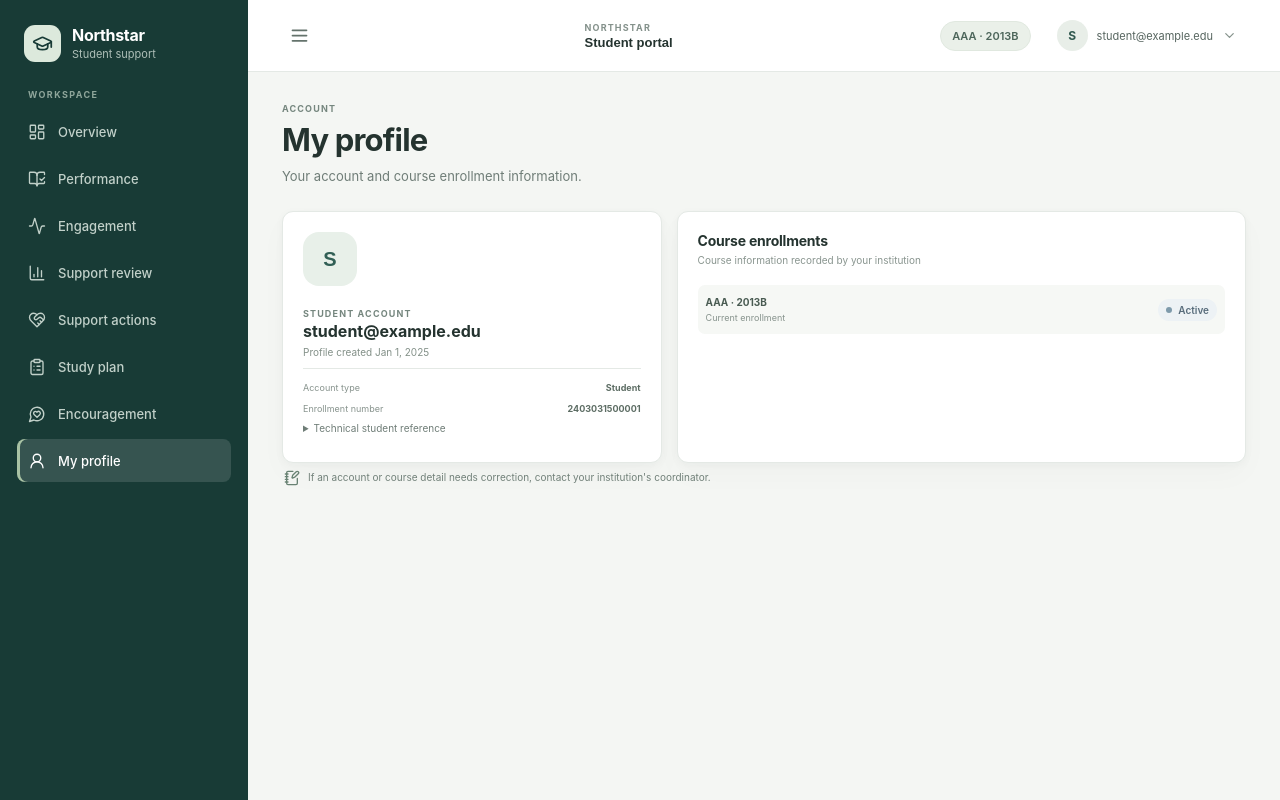
Test: student and coordinator frontend flows › shows the assigned enrollment number and keeps the student UUID in diagnostic details
Check: the text "2403031500001" is shown, box top-left (568, 403), bottom-right (641, 414)
Check: the text "student-1" is not shown
What coordinates should you click on to do the following:
click the heading "Technical student reference"
I would click on:
 (374, 428)
Its box is top-left (303, 422), bottom-right (446, 434).
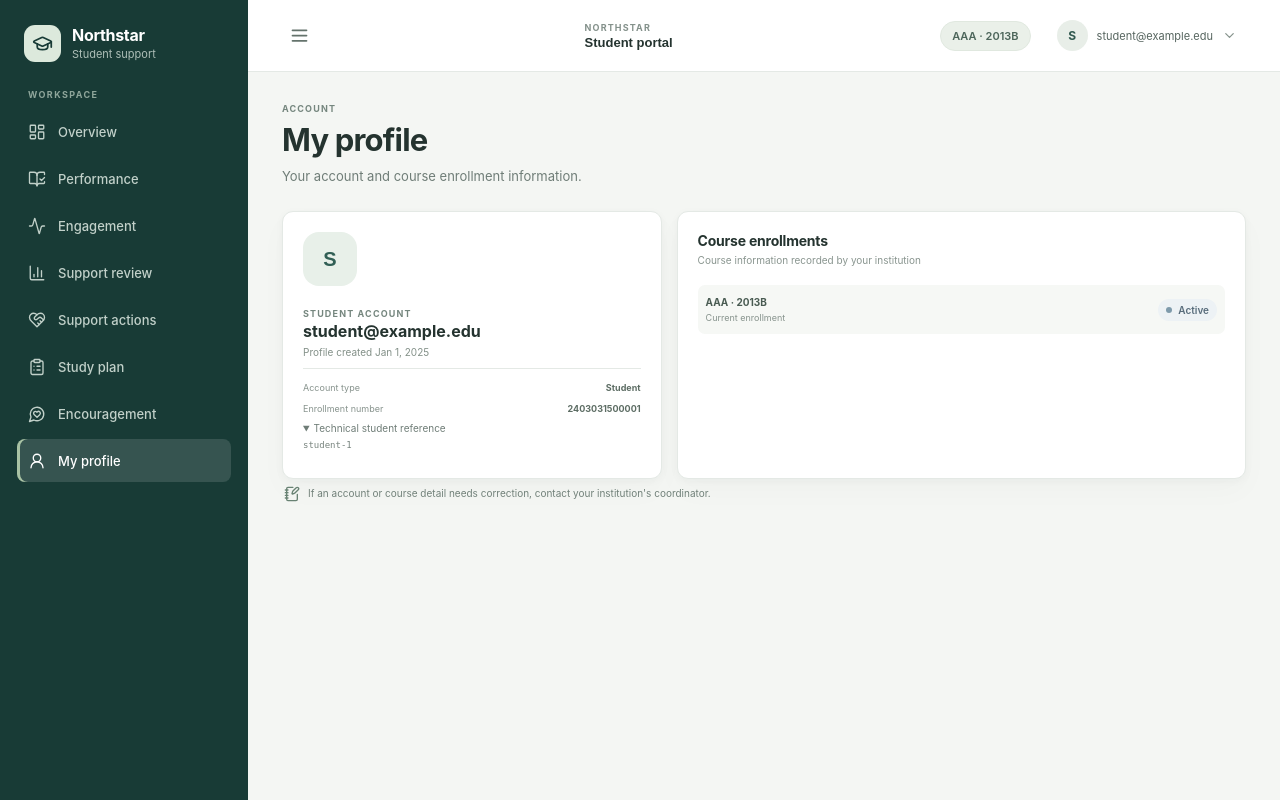
Check: the text "student-1" is shown, box top-left (303, 440), bottom-right (352, 450)
